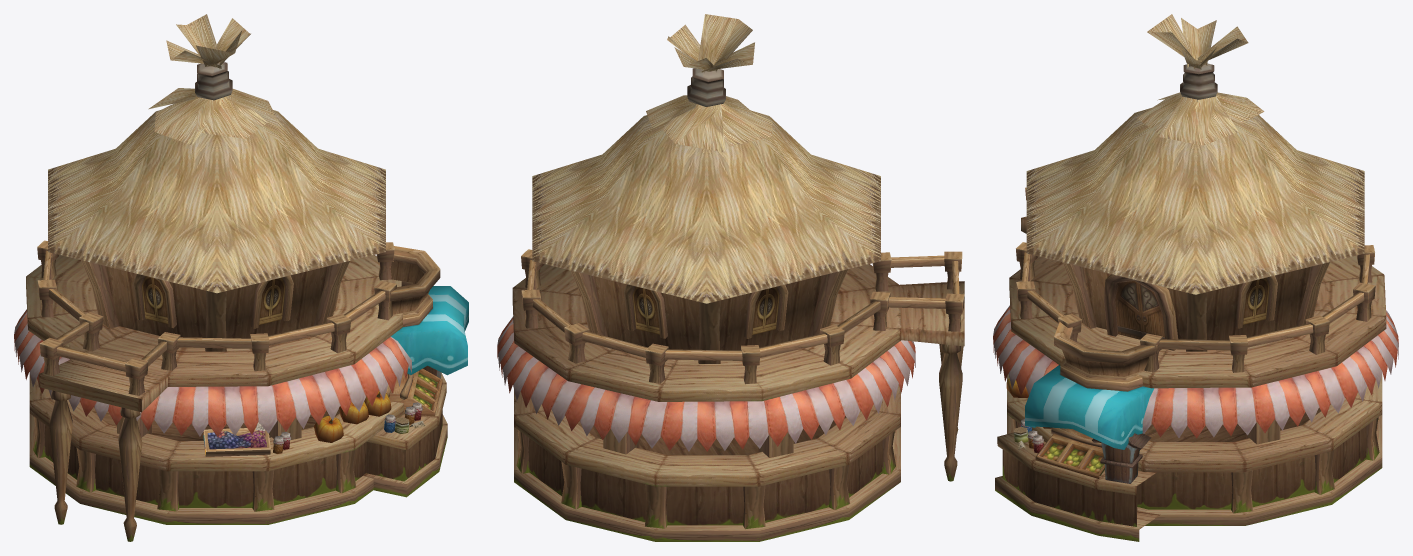
The model's file is Map_05_house02.FBX.
3 views of the same model, side by side, from view 1: azimuth 30°, elevation 25°; view 2: azimuth 150°, elevation 25°; view 3: azimuth 270°, elevation 25° (orthographic). The views are drawn at different scales.
Visible parts, largest first — view 1: Map_05_house02; view 2: Map_05_house02; view 3: Map_05_house02.
Part boxes in pixels (x1,y1,x2,y2): Map_05_house02: (14,14,468,541); Map_05_house02: (497,14,964,541); Map_05_house02: (993,14,1398,541).
Bounding box in the file's own units: 1111 × 1053 × 919.
